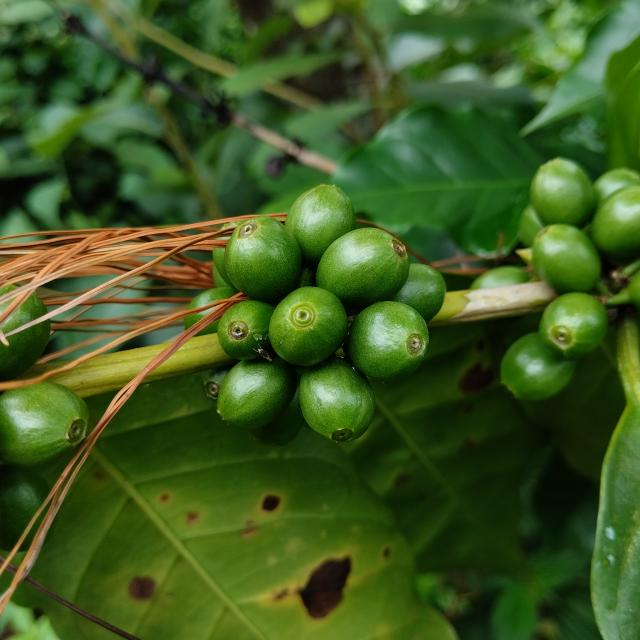green: (0, 382, 89, 468), (316, 228, 410, 308), (344, 301, 430, 382), (224, 216, 302, 301), (299, 356, 375, 442), (269, 287, 348, 366), (217, 357, 297, 429), (285, 184, 356, 264), (501, 332, 577, 401), (533, 224, 602, 293), (540, 292, 609, 360), (531, 157, 596, 225), (217, 300, 275, 360), (593, 186, 640, 259), (392, 264, 447, 322), (0, 320, 50, 382), (0, 293, 47, 334), (594, 167, 640, 206), (471, 266, 530, 289), (186, 287, 235, 309), (212, 248, 236, 289), (183, 308, 214, 330), (196, 321, 219, 336)
